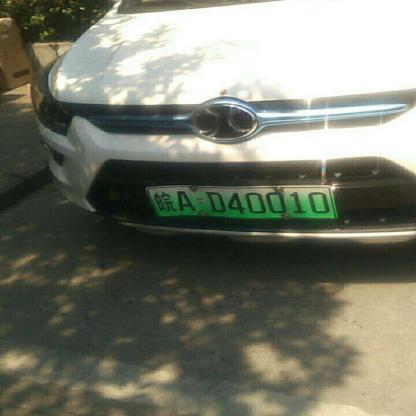lp: (149, 186, 335, 216)
